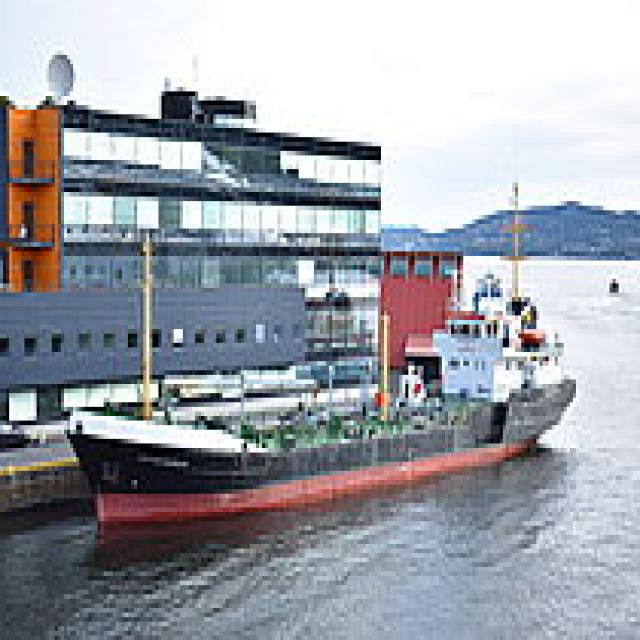Tanker: (67, 306, 582, 526)
